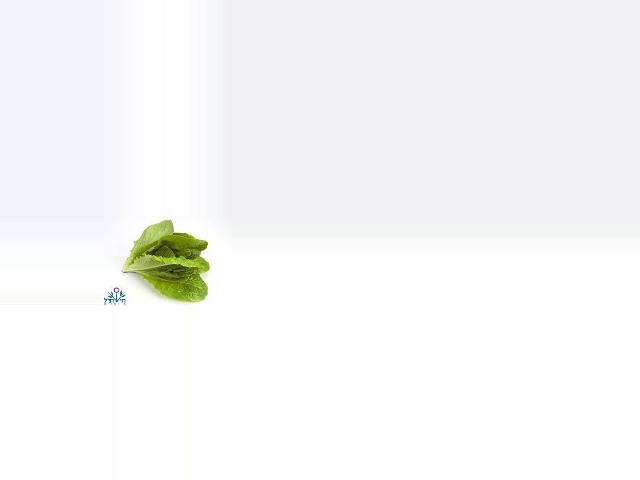lettuce: (121, 218, 212, 300)
